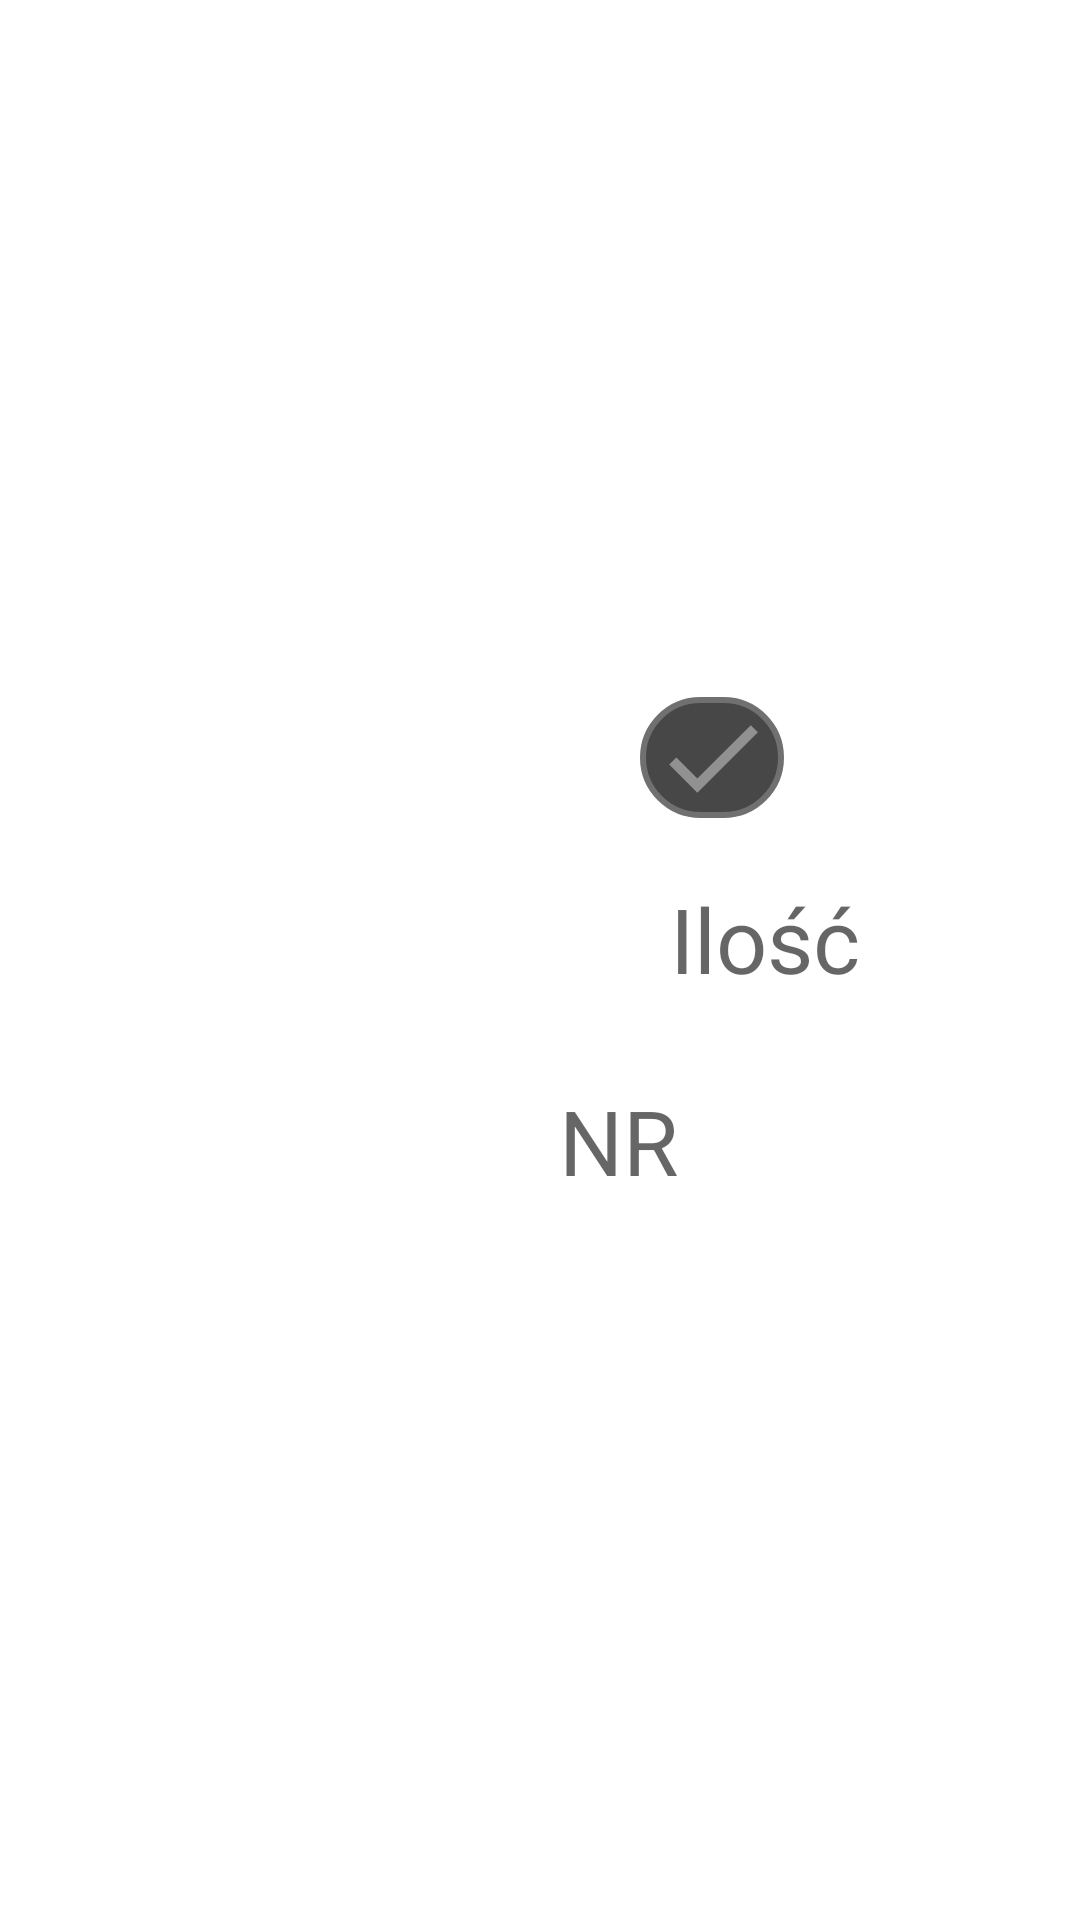

Screen size 1080×1920. Icon name, then its box in pixels as detection(x1, y1, x2, y2):
check: detection(640, 697, 784, 818)
